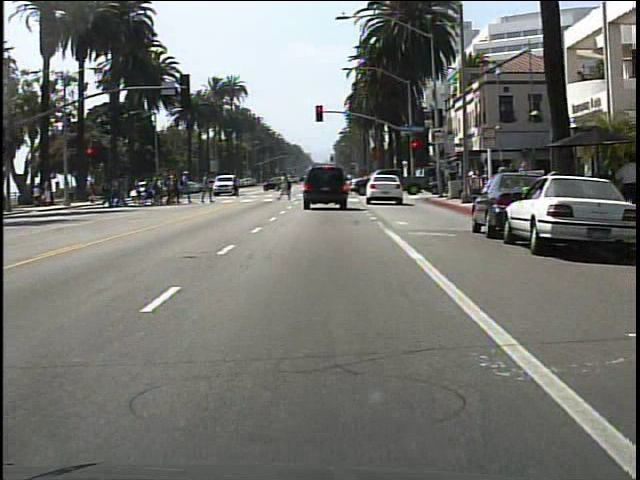person: (611, 153, 640, 224), (227, 168, 246, 202)
